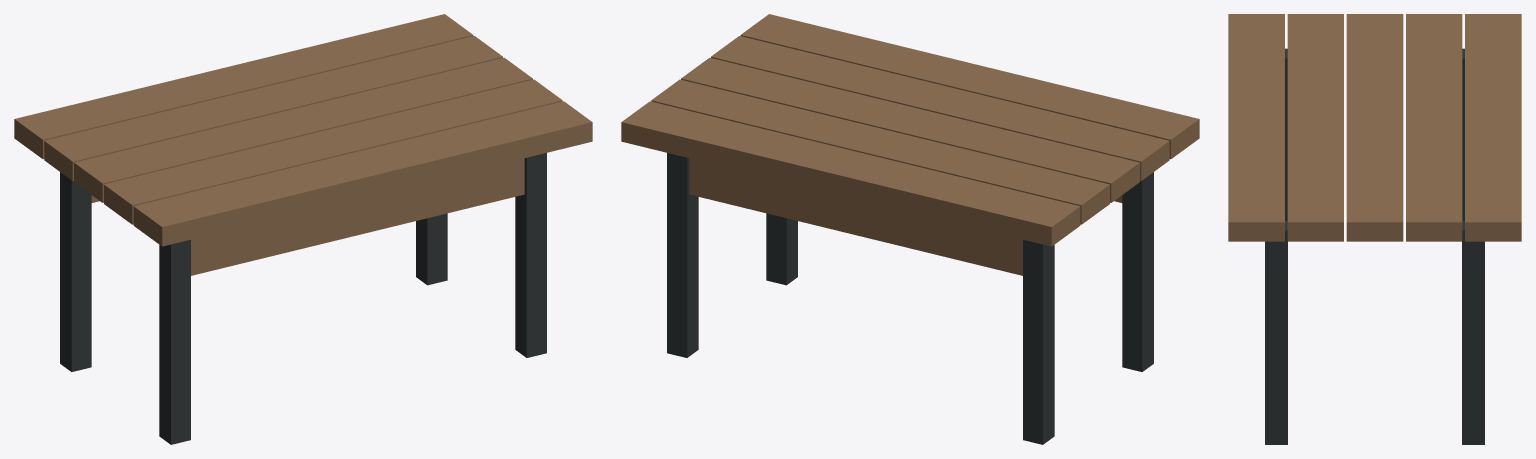
Rendered from table.glb.
The picture shows the model from 3 angles, left to right: view 1: azimuth 30°, elevation 25°; view 2: azimuth 150°, elevation 25°; view 3: azimuth 270°, elevation 25°; orthographic projection.
Parts seen in each view (by area): view 1: Обеденный стол; view 2: Обеденный стол; view 3: Обеденный стол.
Part boxes in pixels (bbox=[...]): Обеденный стол: bbox=[14, 14, 592, 444]; Обеденный стол: bbox=[621, 14, 1199, 444]; Обеденный стол: bbox=[1228, 14, 1521, 444].
Size of the model in its own units: 1.5 by 0.7925 by 0.892.
